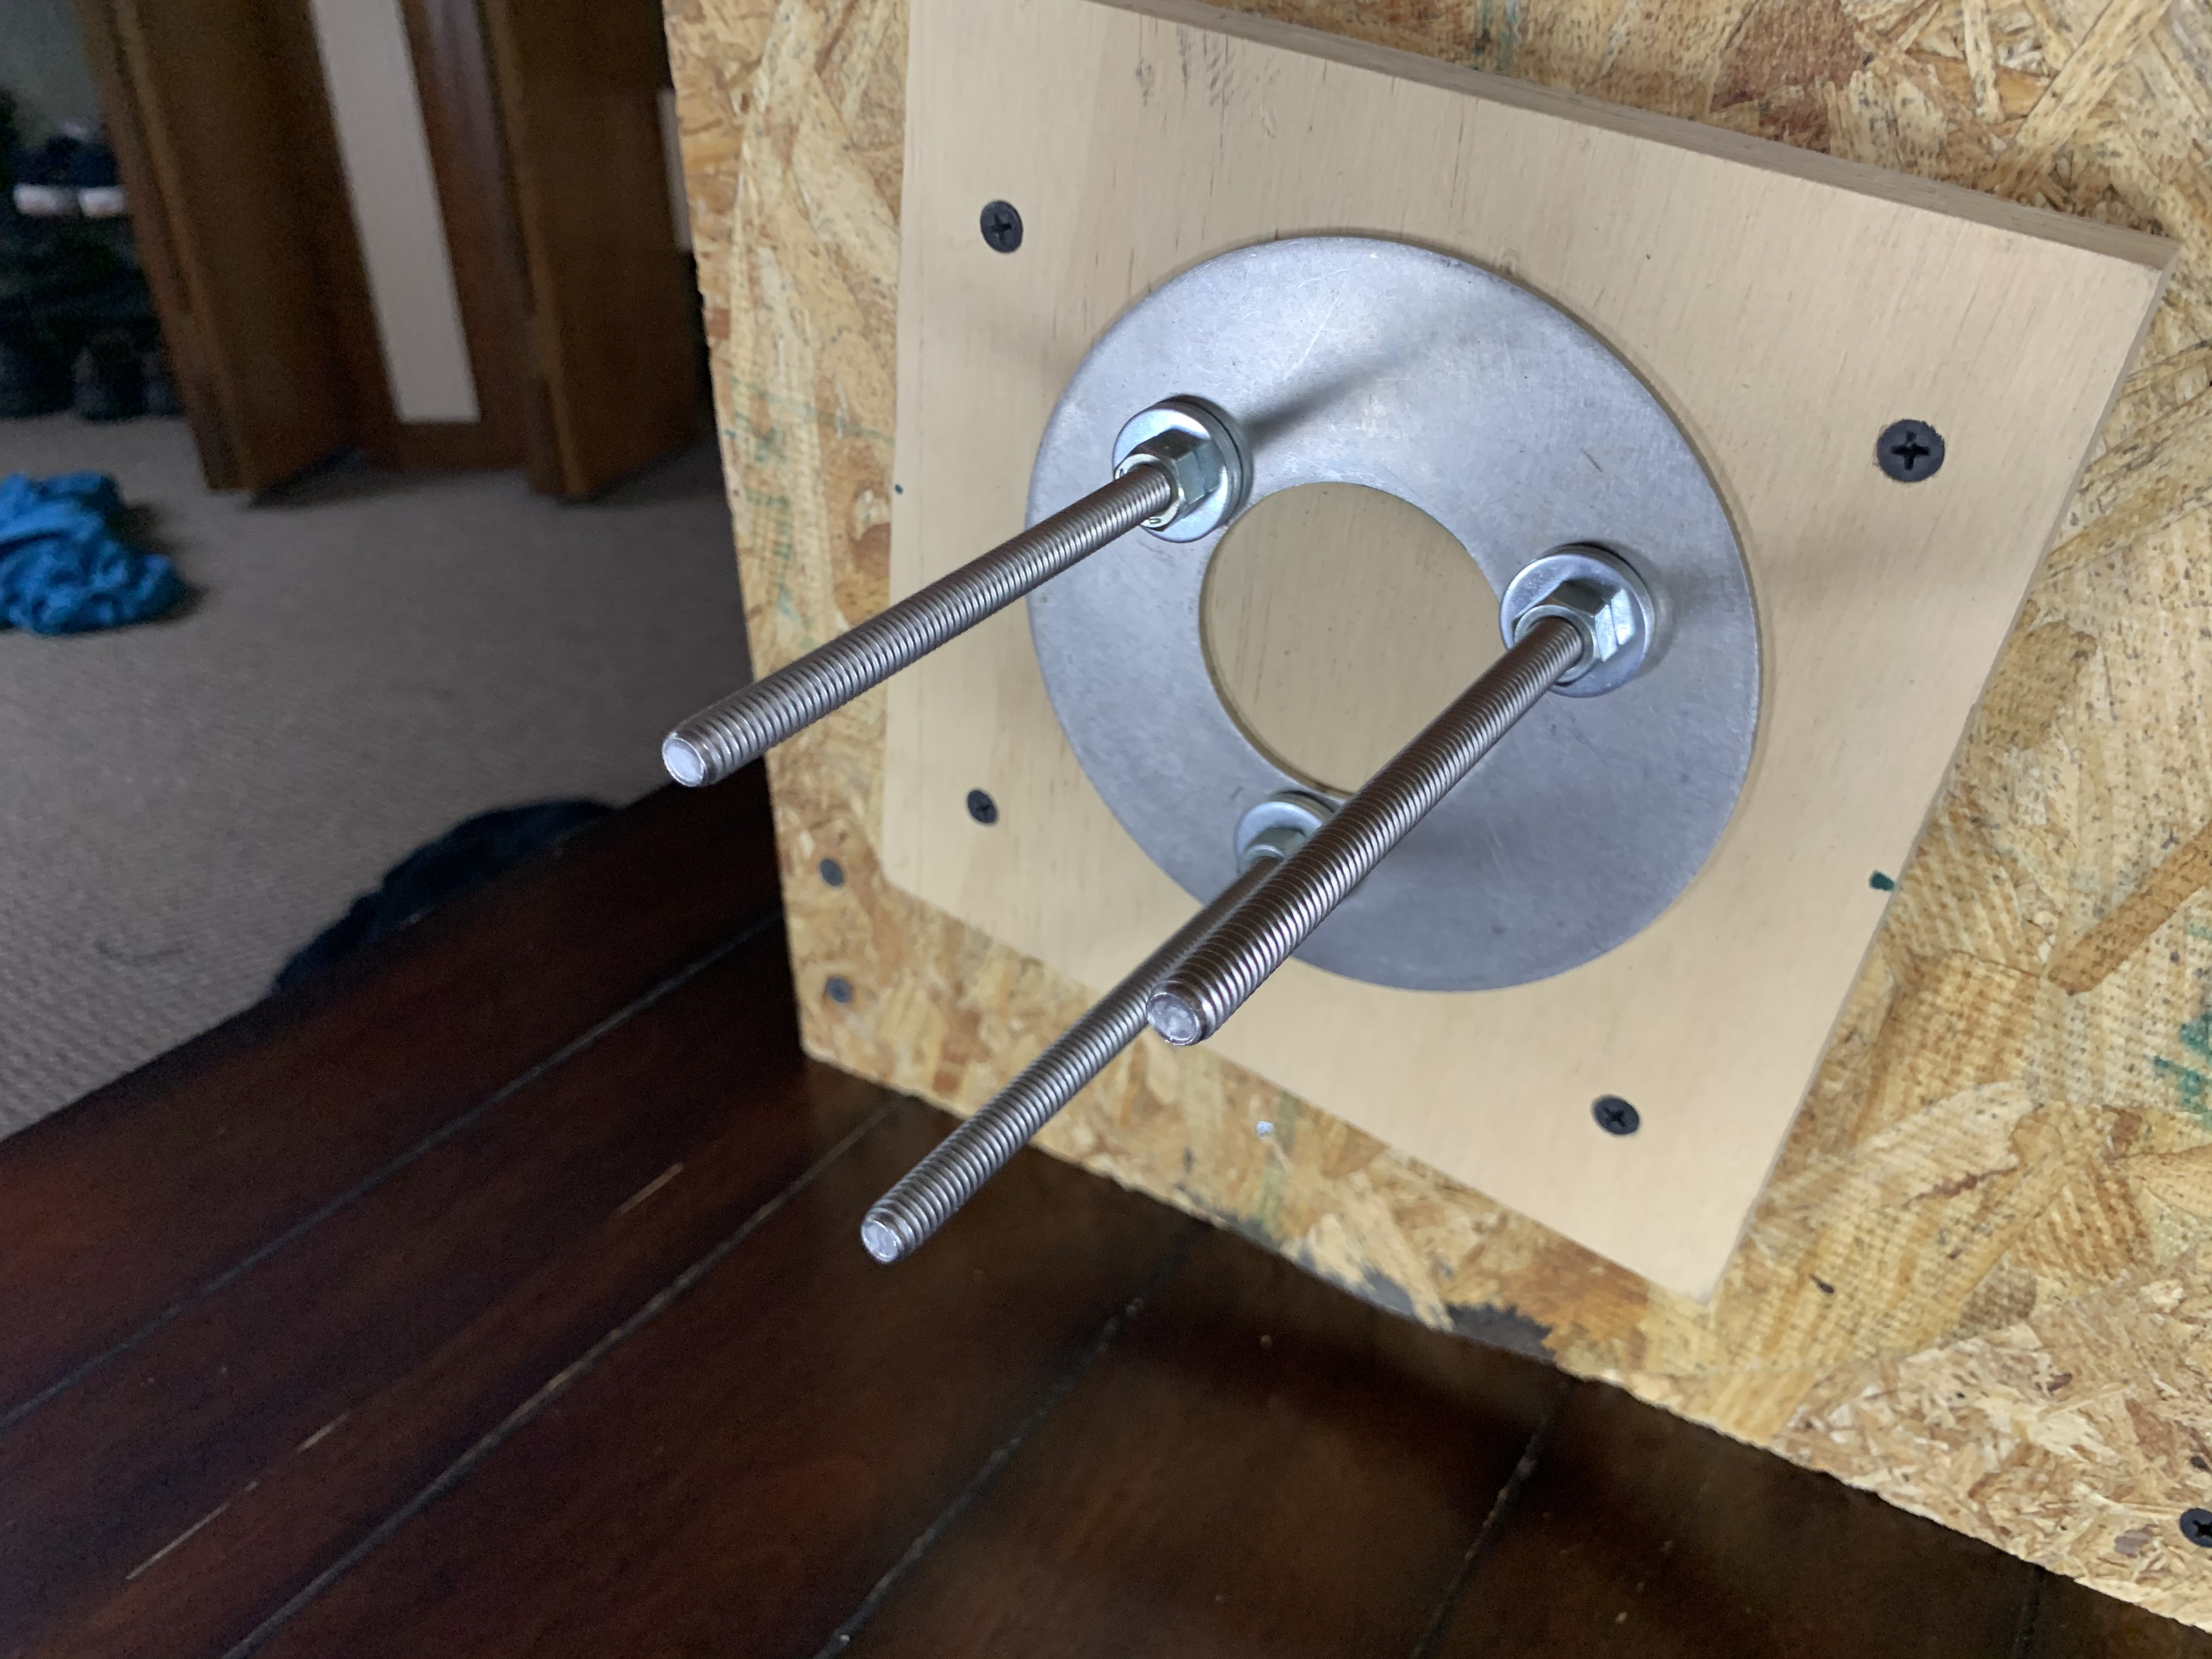bolt: (1498, 540, 1655, 699), (1108, 403, 1247, 545), (1226, 788, 1353, 913)
